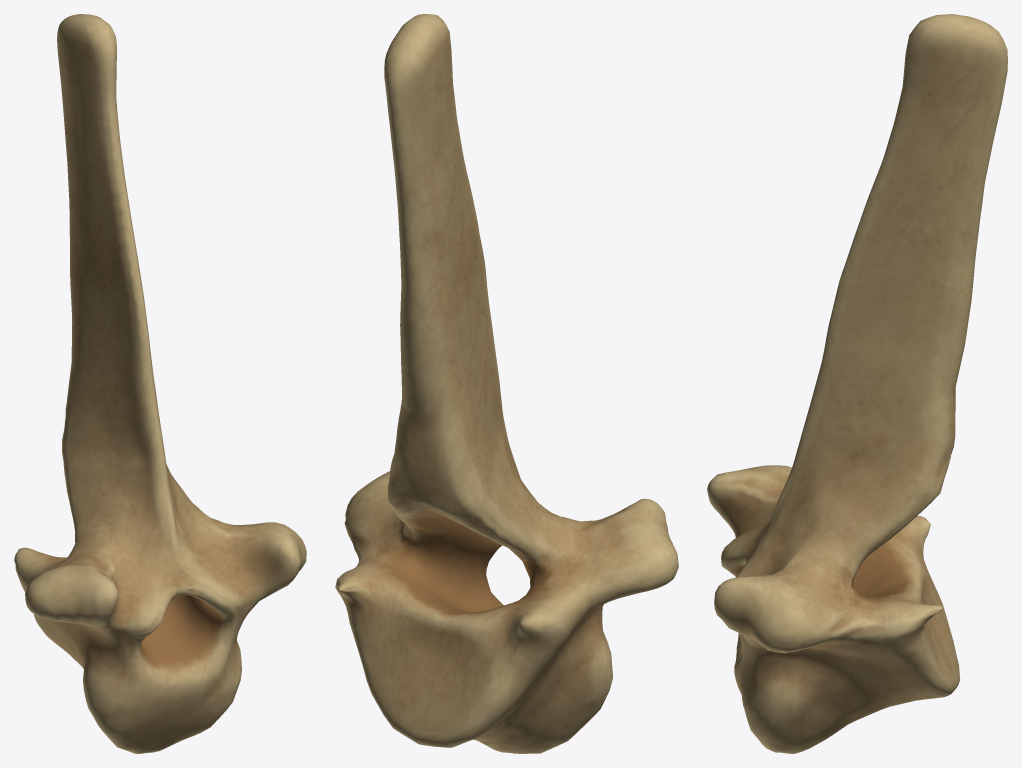
3 views of the same model, side by side, from view 1: azimuth 30°, elevation 25°; view 2: azimuth 150°, elevation 25°; view 3: azimuth 270°, elevation 25° (orthographic). The views are drawn at different scales.
Parts seen in each view (by area): view 1: ZBrush_defualt_group.013; view 2: ZBrush_defualt_group.013; view 3: ZBrush_defualt_group.013.
Boxes of the visible parts, <box> form: ZBrush_defualt_group.013: <box>14,14,306,753</box>; ZBrush_defualt_group.013: <box>335,14,678,753</box>; ZBrush_defualt_group.013: <box>707,14,1007,753</box>.
Bounding box in the file's own units: 50.65 × 120 × 44.18.
1 material, 1 textured.
